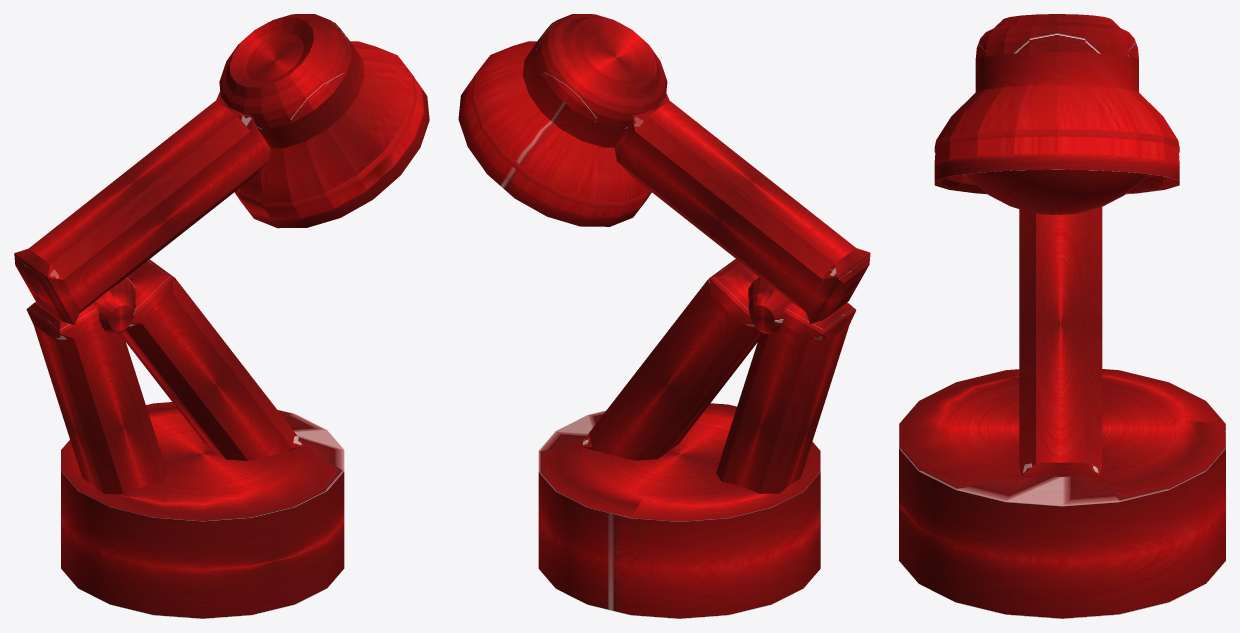
The model's file is XenonObject.DAE.
3 renders of one model, left to right at view 1: azimuth 30°, elevation 25°; view 2: azimuth 150°, elevation 25°; view 3: azimuth 270°, elevation 25°, orthographic. The views are drawn at different scales.
Visible parts, largest first — view 1: Cylinder002; view 2: Cylinder002; view 3: Cylinder002.
Boxes of the visible parts, left/top/right/bottom form: Cylinder002: left=14, top=14, right=429, bottom=618; Cylinder002: left=458, top=14, right=870, bottom=618; Cylinder002: left=899, top=14, right=1225, bottom=618.
Bounding box in the file's own units: 12.16 × 7.75 × 15.51.
Materials: 1 (1 with a texture image).
